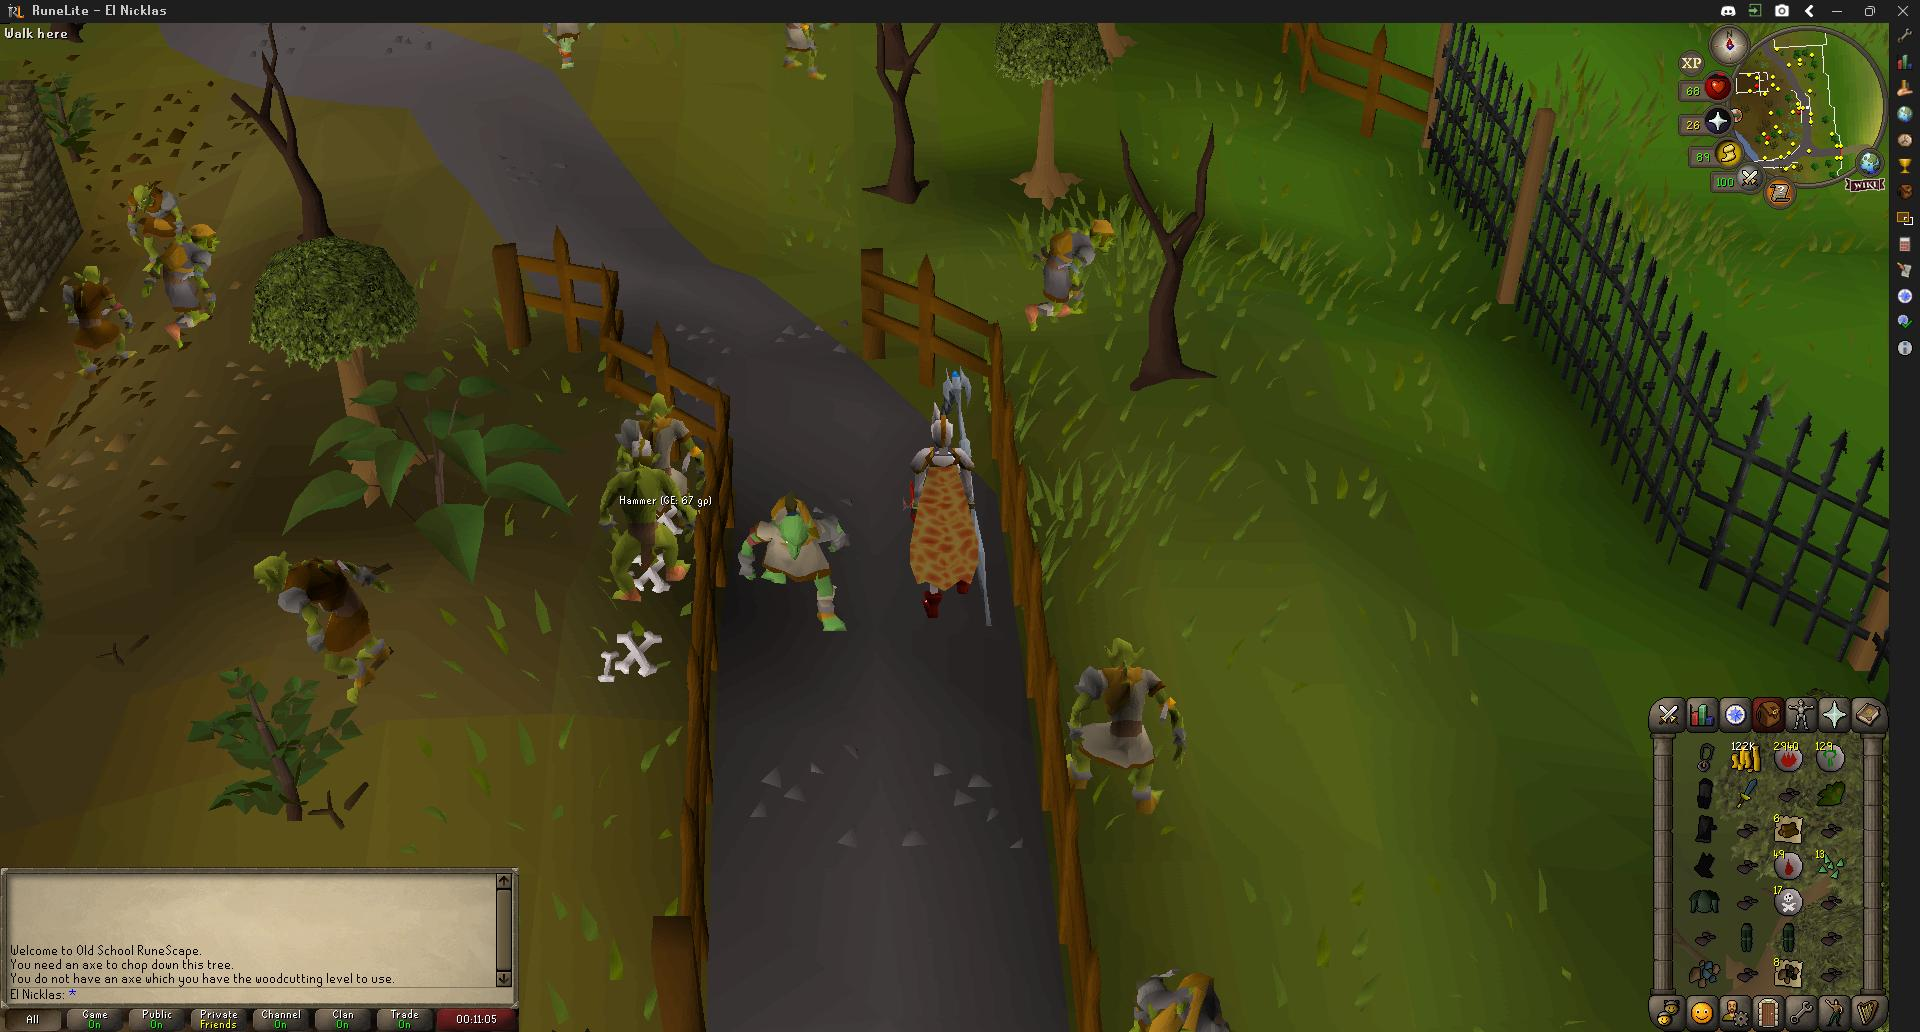Player: (903, 382, 985, 616)
goblin: (252, 556, 393, 692), (1061, 644, 1177, 807), (740, 490, 851, 629), (608, 391, 702, 520), (1031, 216, 1114, 330), (145, 222, 220, 348), (61, 265, 136, 377), (1120, 965, 1245, 1032), (125, 182, 189, 288), (780, 22, 832, 79), (541, 21, 594, 72)
